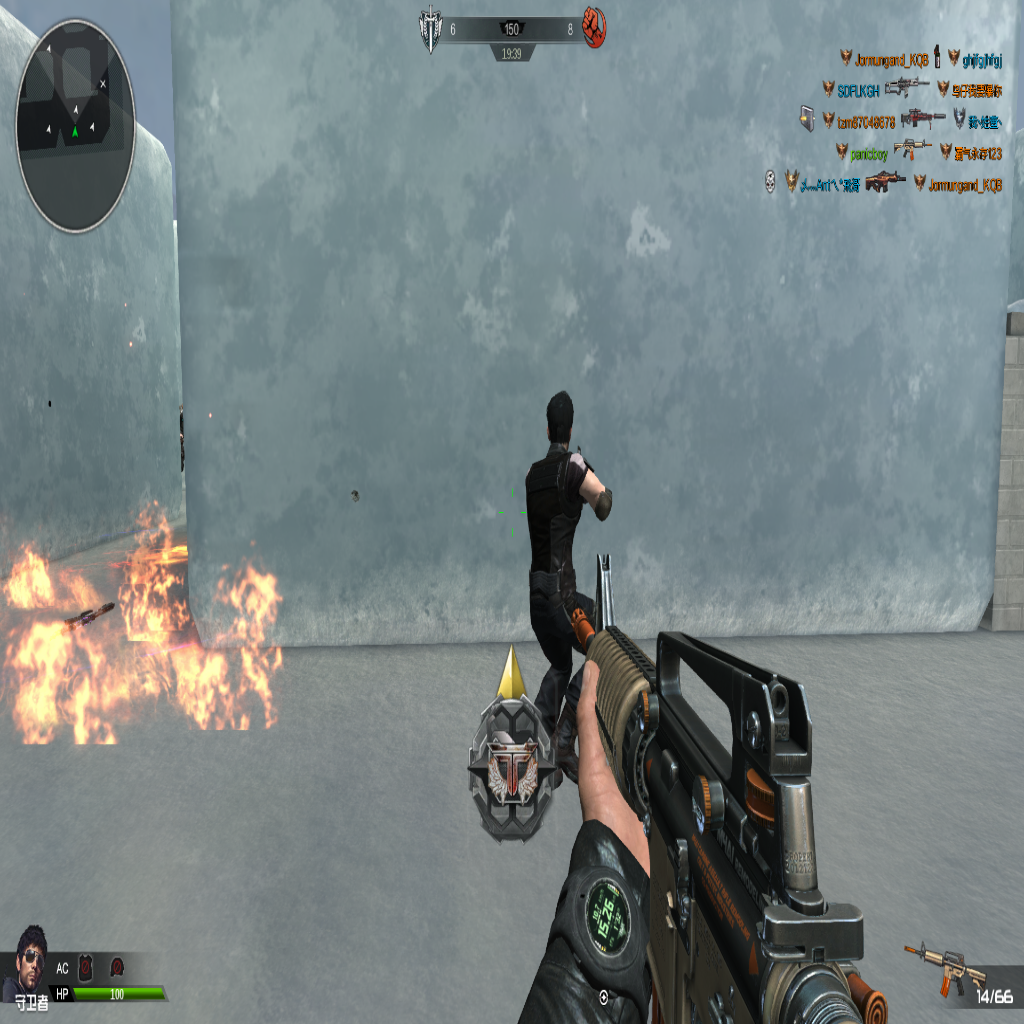ct: (526, 394, 612, 748)
